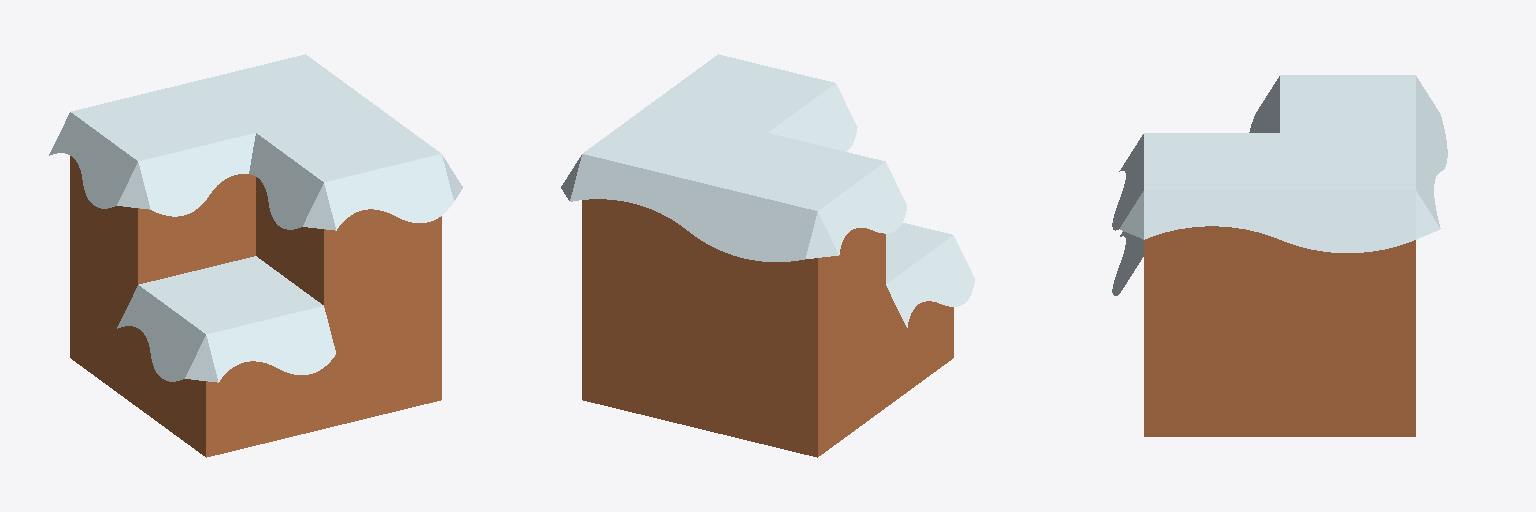
Rendered from blockSnowLevel.obj.
The picture shows the model from 3 angles: view 1: azimuth 30°, elevation 25°; view 2: azimuth 150°, elevation 25°; view 3: azimuth 270°, elevation 25°; orthographic projection.
Visible parts, largest first — view 1: blockSnowLevel; view 2: blockSnowLevel; view 3: blockSnowLevel.
Boxes of the visible parts, x1,y1,x2,y2 form: blockSnowLevel: [49, 54, 462, 457]; blockSnowLevel: [561, 54, 974, 457]; blockSnowLevel: [1112, 75, 1447, 436].
Size of the model in its own units: 1.23 by 1 by 1.23.